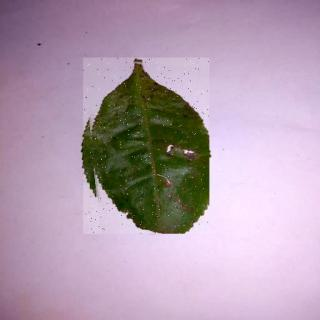Bird Eye Spot: (85, 59, 211, 235)
